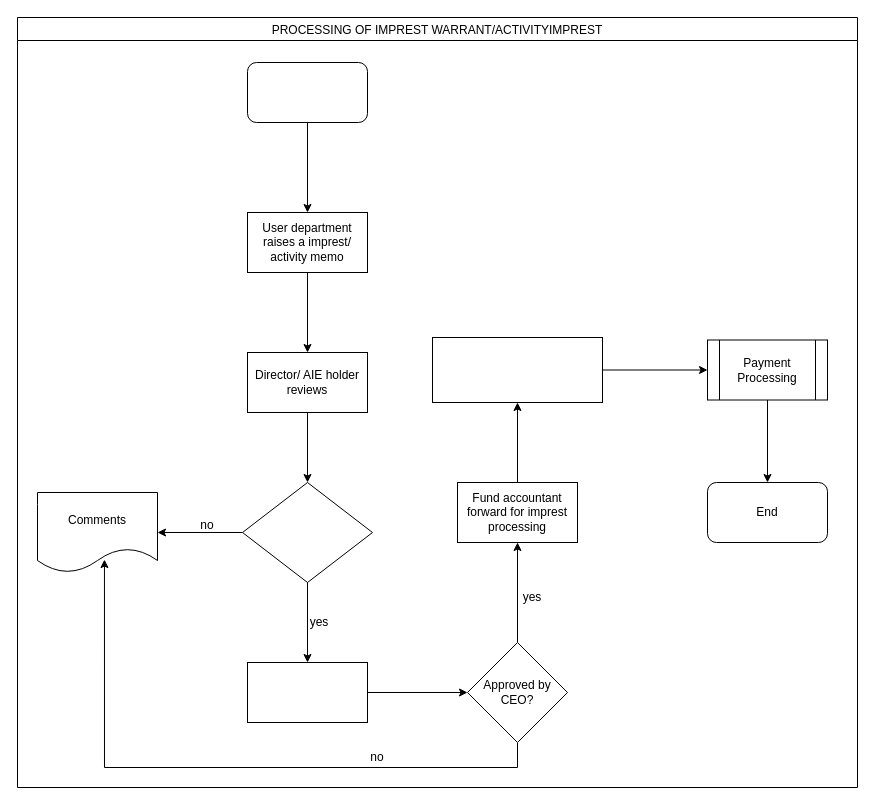
Some shapes in this 875 by 805 pixel diagram are drawn without their labels. The centre of each missing label's shape, as x and y in pixels:
Accountant Incharge Imprest Section fills in the imprest application form(s): the point at 517,369
Approved by AIE holder?: the point at 307,532
Memo is forwarded to CEO for review: the point at 307,692
Start: the point at 307,92
